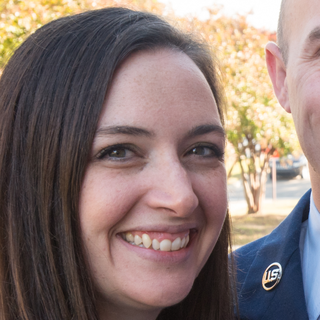eye: (86, 136, 156, 172), (172, 135, 228, 169)
